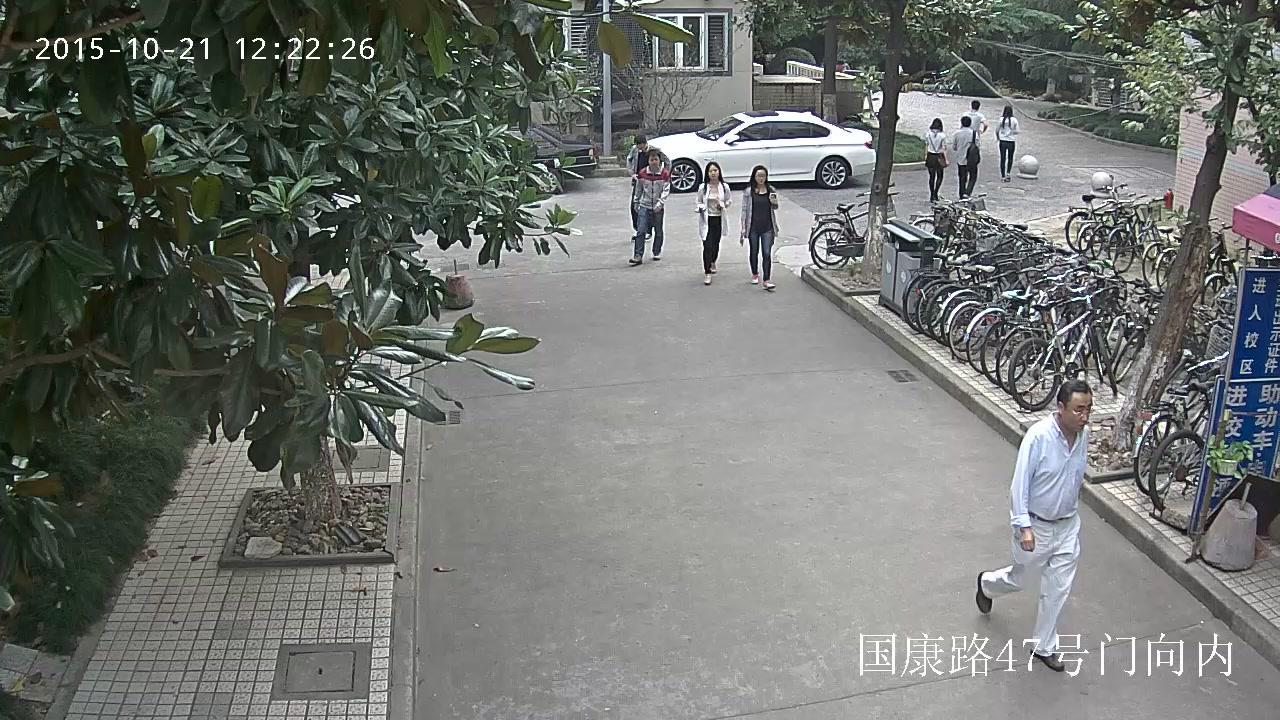face: (1065, 392, 1092, 432), (707, 165, 718, 180), (647, 156, 659, 168), (756, 170, 765, 183), (635, 143, 645, 150)
